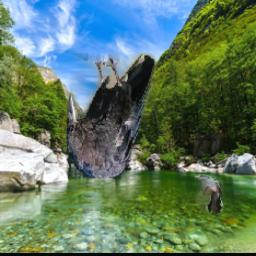Crow: (67, 53, 156, 178)
Cuckoo: (194, 175, 223, 215)
